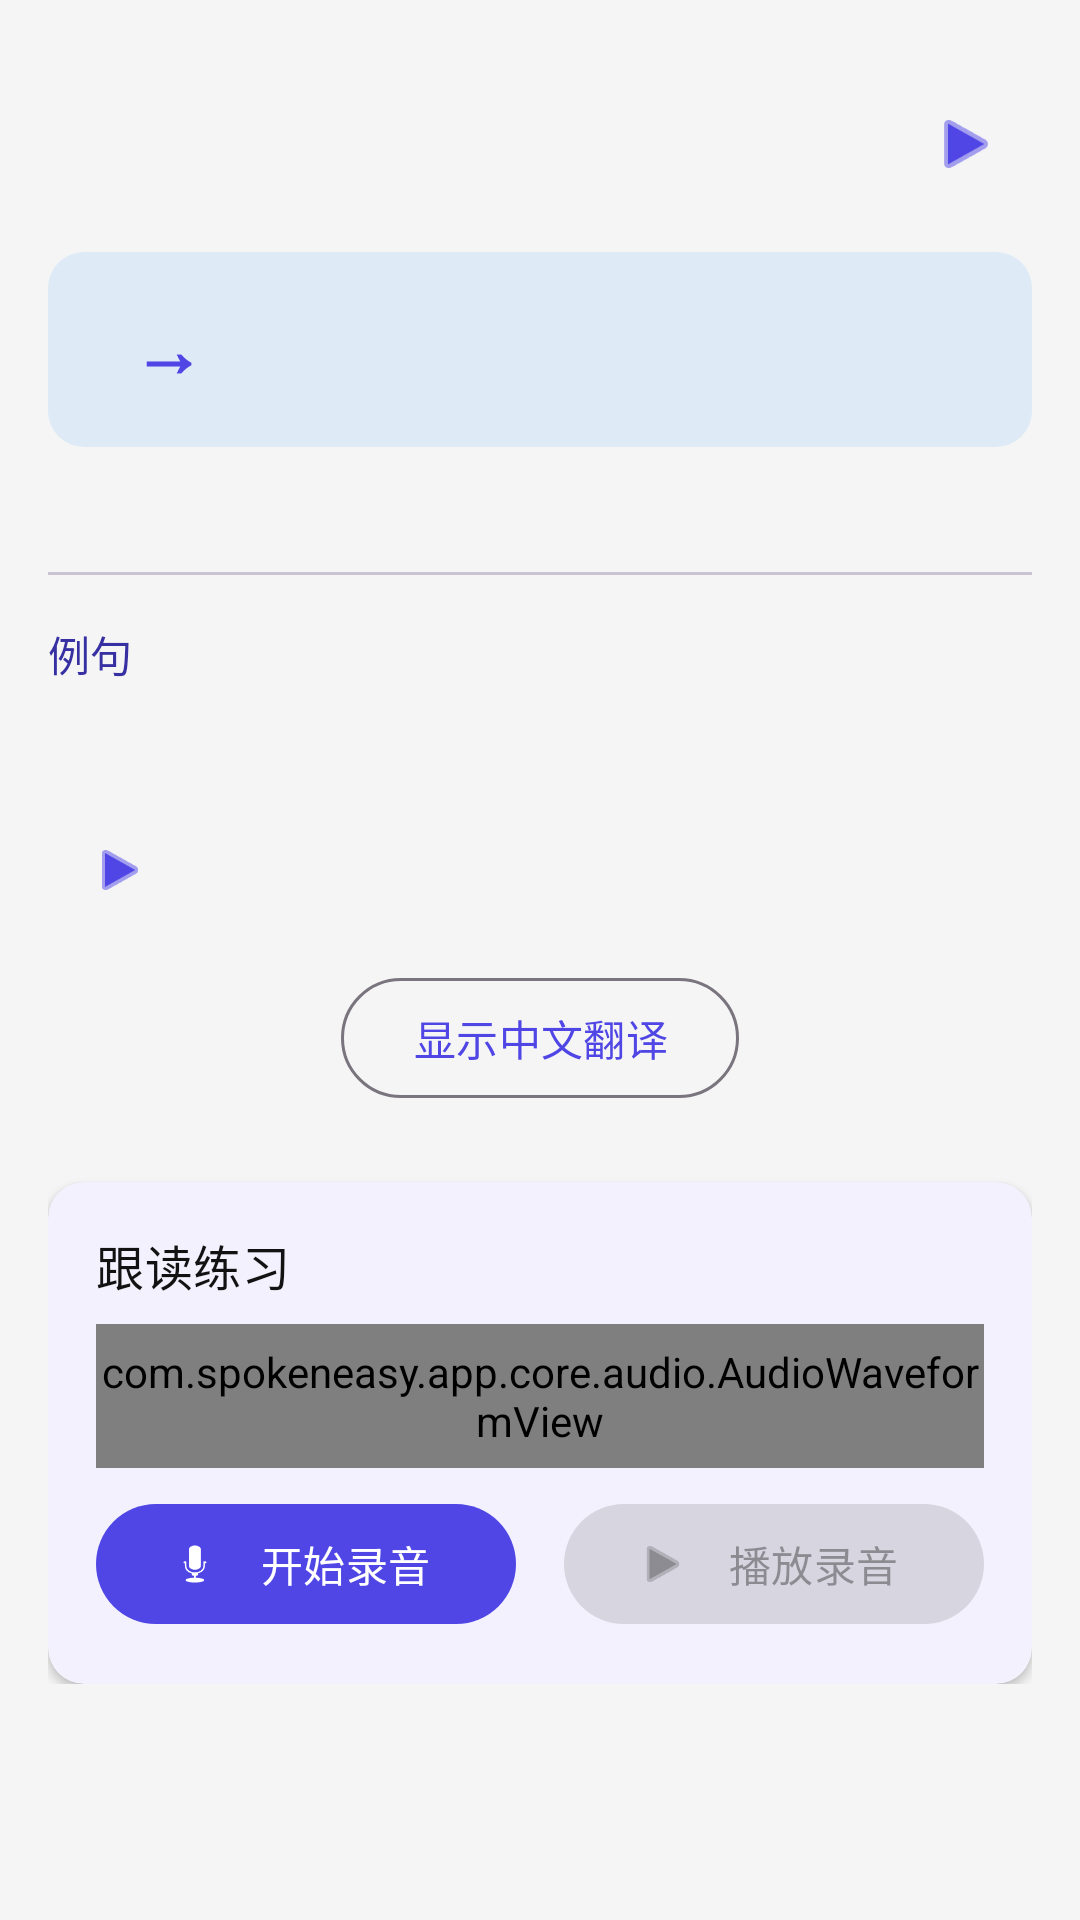

Where to tap for icons on this 1080 x 1920 app screen, as [x,y]:
播放句子: [120,870]
播放连读: [966,144]
